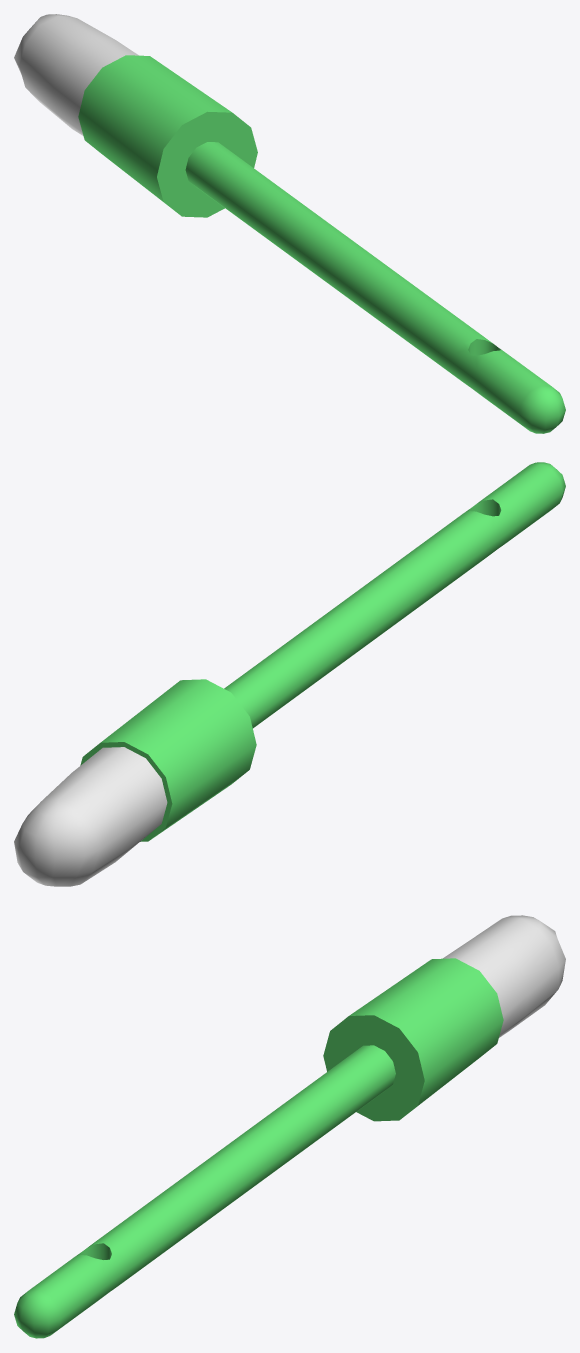
File: Kwast.fbx
3 views of the same model, one above another, from view 1: azimuth 30°, elevation 25°; view 2: azimuth 150°, elevation 25°; view 3: azimuth 330°, elevation 25° (orthographic).
Visible parts, largest first — view 1: kwast; view 2: kwast; view 3: kwast.
Part boxes in pixels (x1,y1,x2,y2): kwast: (14, 14, 565, 433); kwast: (14, 462, 565, 886); kwast: (14, 915, 565, 1338).
Bounding box in the file's own units: 0.0284 × 0.0284 × 0.25.
